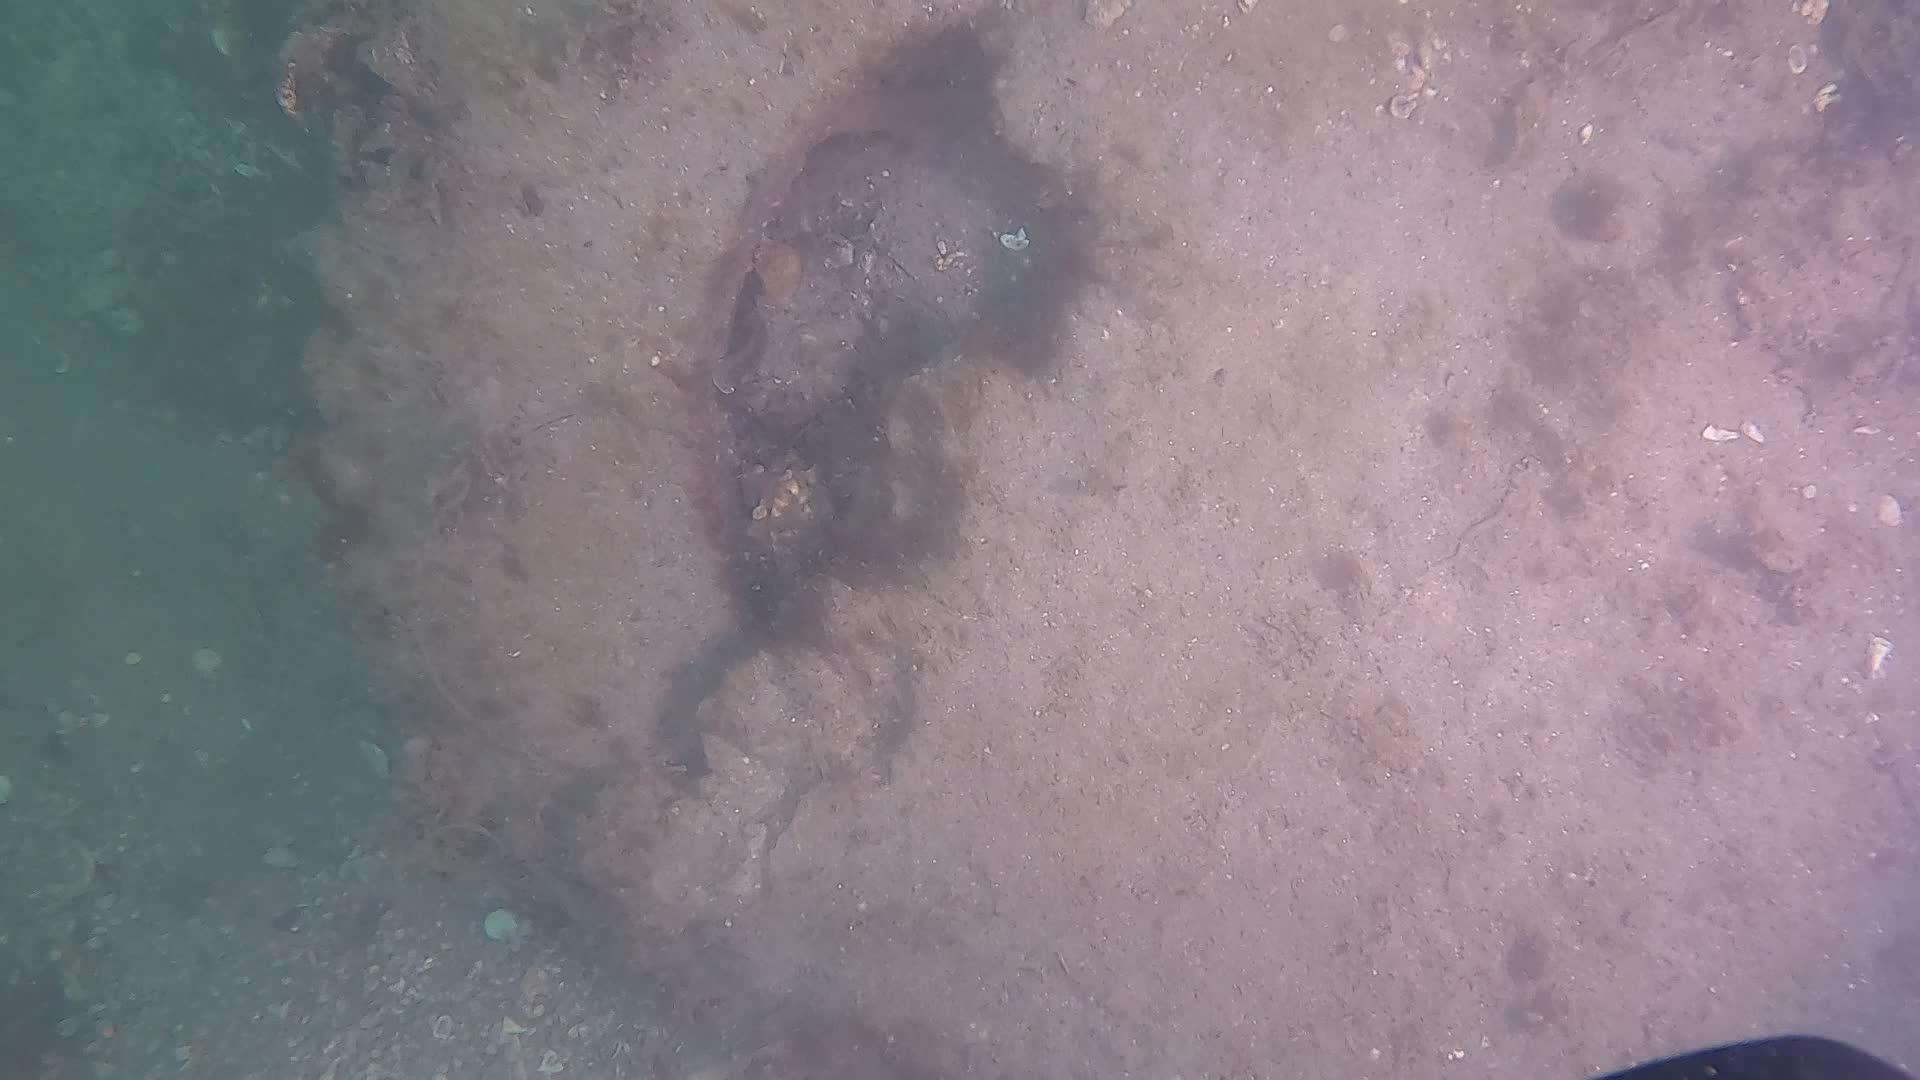tire: (297, 1, 982, 880)
